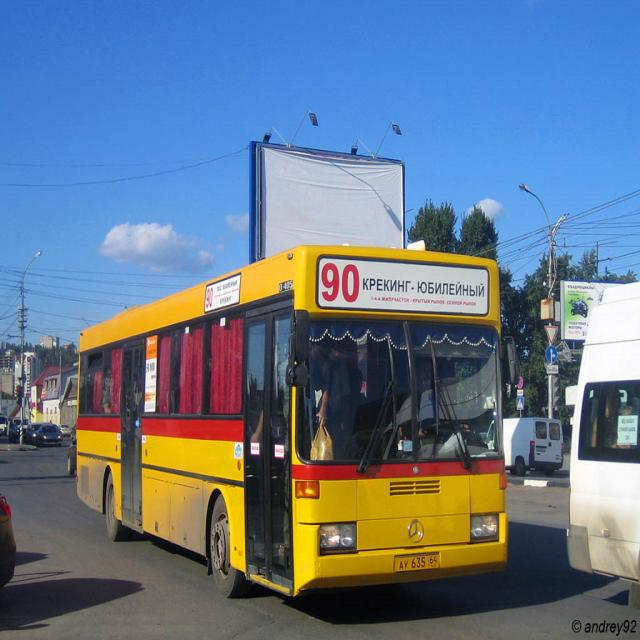number-of-bus: (321, 260, 361, 308), (206, 288, 216, 310)
